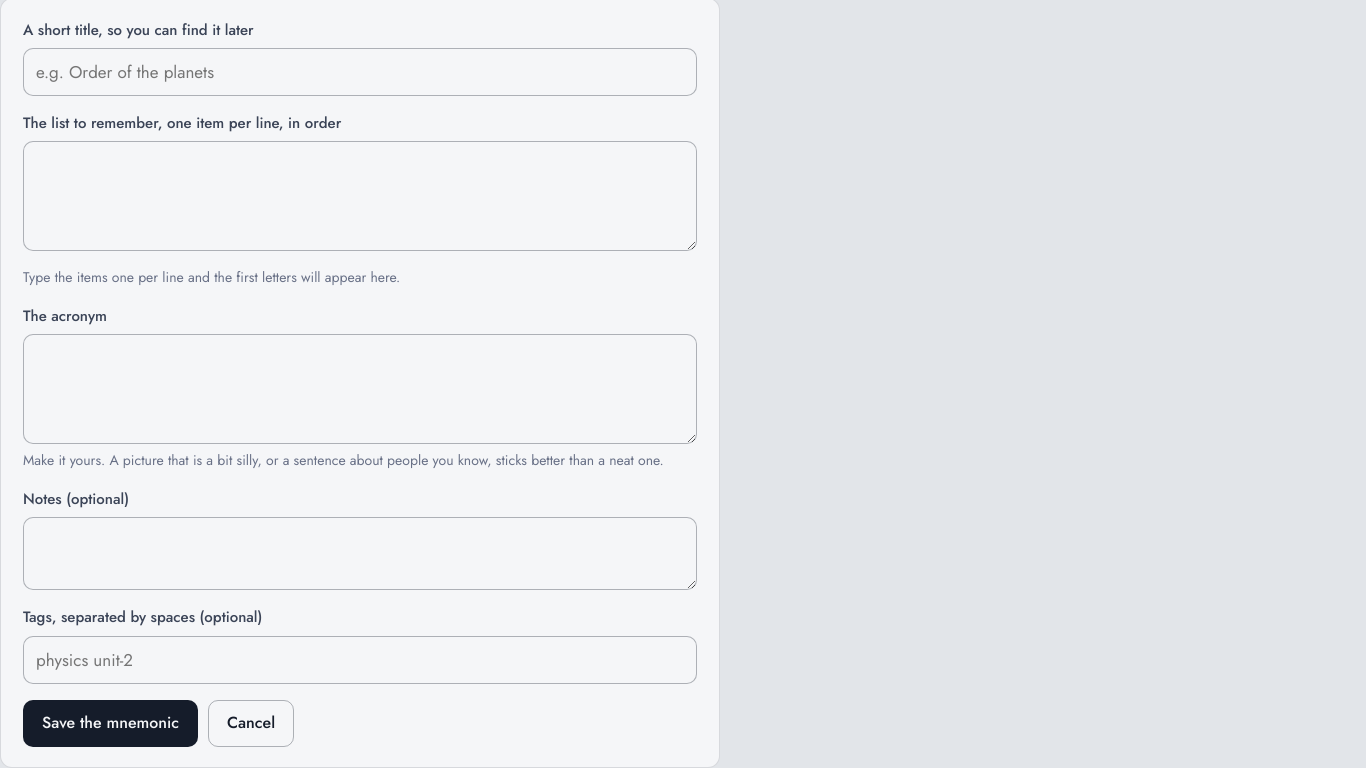
Test: mnemonics › refuses to save an empty mnemonic
(page scrolled)
Click the button "Save the mnemonic" at (110, 723), box [23, 700, 198, 747]
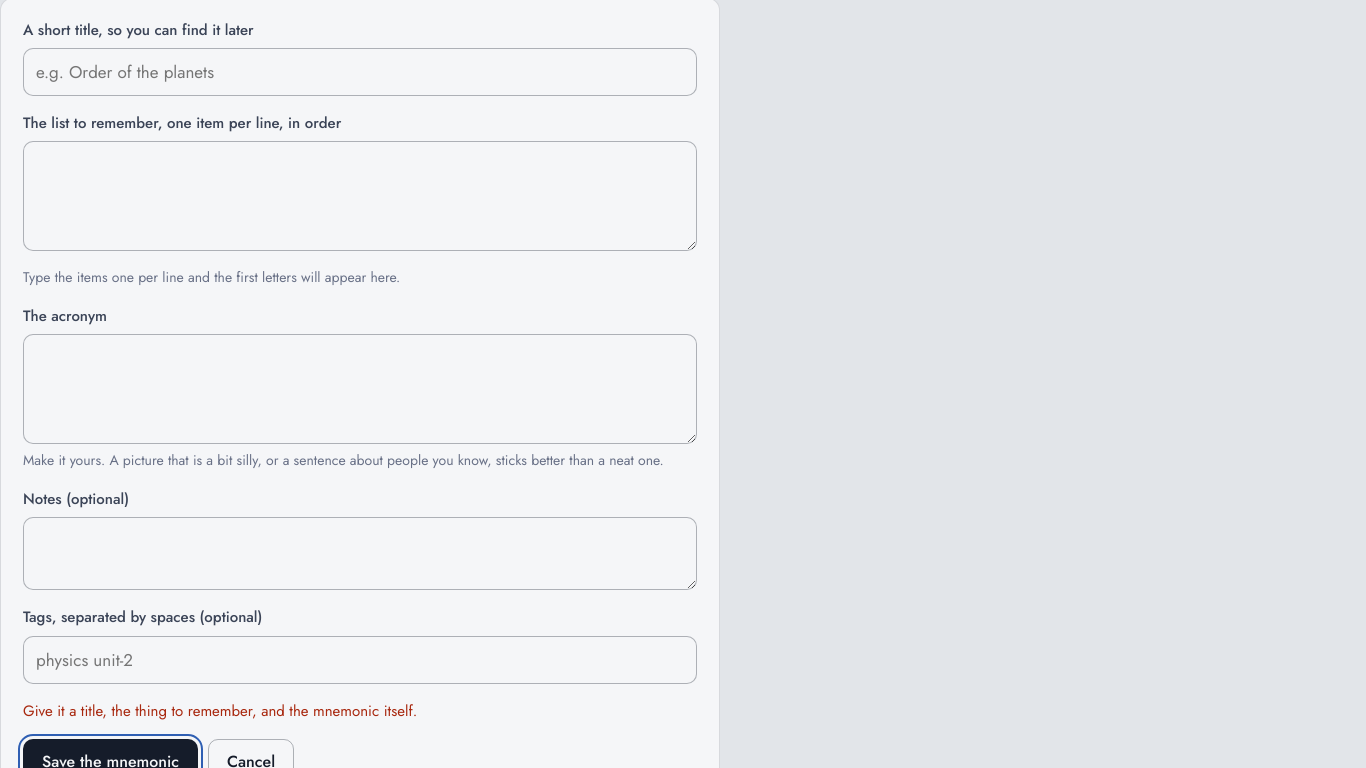
Now the message shows "Give it a title", box [23, 700, 417, 722]
